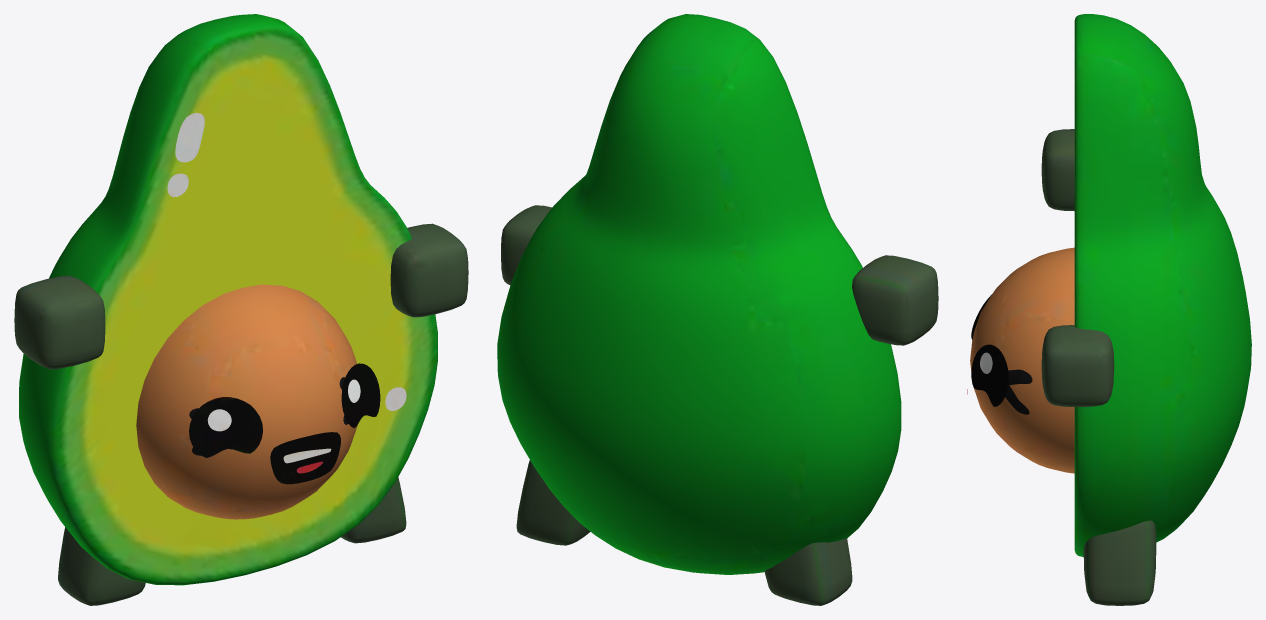
Rendered from avocado.glb.
3 renders of one model, left to right at view 1: azimuth 30°, elevation 25°; view 2: azimuth 150°, elevation 25°; view 3: azimuth 270°, elevation 25°, orthographic. The views are drawn at different scales.
Parts seen in each view (by area): view 1: body, hand_L, hand_R, face_eyes, face_mouth; view 2: body, hand_L, hand_R; view 3: body, hand_R, hand_L, face_eyes, face_dead_eyes.
Part boxes in pixels (x1,y1,x2,y2): body: (19, 14, 437, 605); hand_L: (14, 275, 105, 369); hand_R: (390, 223, 468, 317); face_eyes: (189, 363, 380, 457); face_mouth: (270, 432, 340, 484); body: (497, 14, 901, 605); hand_L: (852, 255, 938, 345); hand_R: (501, 205, 552, 285); body: (970, 14, 1251, 605); hand_R: (1041, 325, 1114, 407); hand_L: (1041, 129, 1074, 211); face_eyes: (971, 294, 1008, 406); face_dead_eyes: (1005, 369, 1032, 414).
Size of the model in its own units: 0.8141 by 1 by 0.5073.
Materials: 2 (1 with a texture image).
